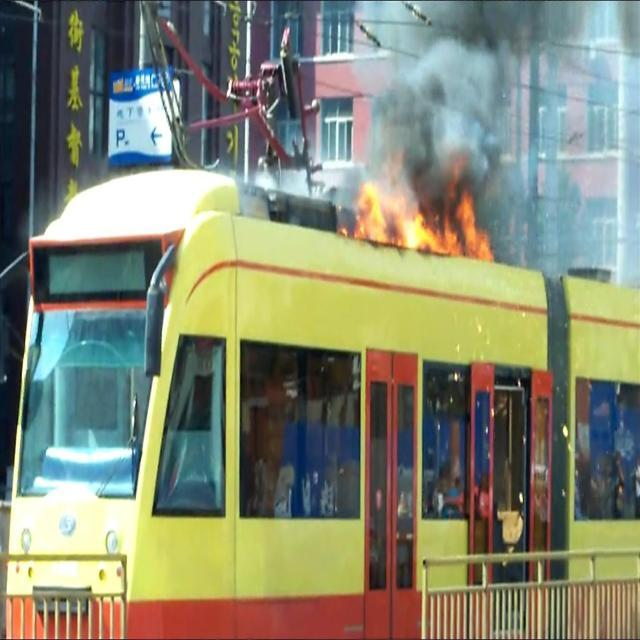Fire: (338, 168, 500, 264)
Smoke: (230, 1, 640, 292)
